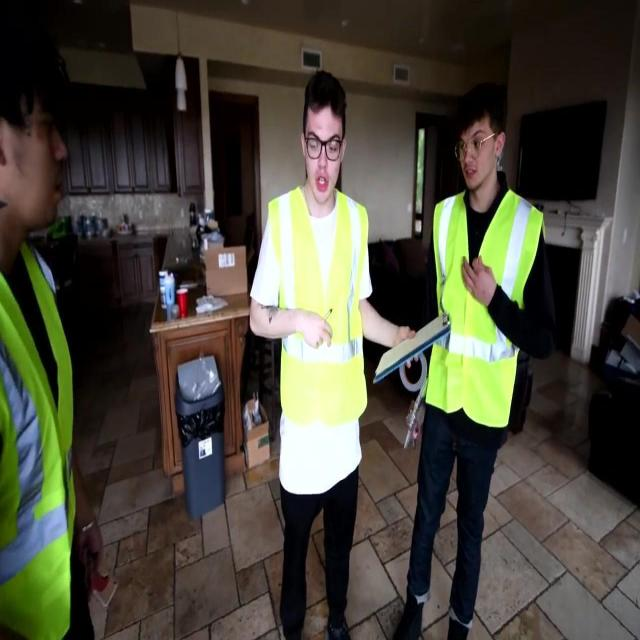Vest: (0, 239, 80, 637), (421, 188, 545, 428), (266, 187, 371, 429)
